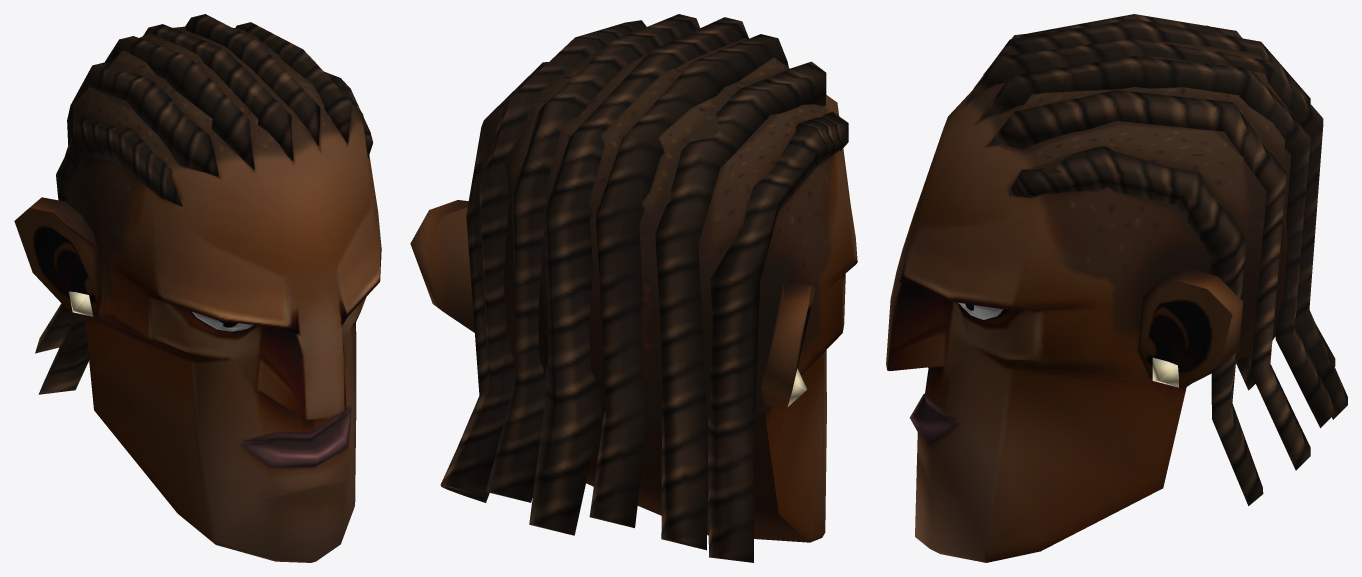
Rendered from IT_PLY_ST_0013_JohnDoe_13.FBX.
3 renders of one model, left to right at view 1: azimuth 30°, elevation 25°; view 2: azimuth 150°, elevation 25°; view 3: azimuth 270°, elevation 25°, orthographic. The views are drawn at different scales.
Parts seen in each view (by area): view 1: IT_PLY_ST_0013_JohnDoe_13; view 2: IT_PLY_ST_0013_JohnDoe_13; view 3: IT_PLY_ST_0013_JohnDoe_13.
Boxes of the visible parts, x1,y1,x2,y2 form: IT_PLY_ST_0013_JohnDoe_13: (14, 14, 381, 562); IT_PLY_ST_0013_JohnDoe_13: (410, 14, 857, 562); IT_PLY_ST_0013_JohnDoe_13: (886, 14, 1347, 562).
Size of the model in its own units: 23.05 by 30.56 by 25.6.
